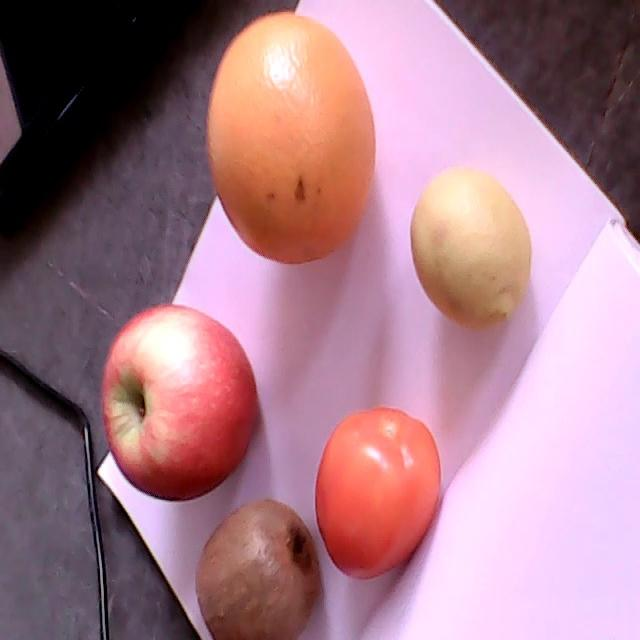apple: (101, 303, 258, 503)
kiwi: (196, 499, 322, 638)
lemon: (411, 164, 533, 330)
orange: (207, 12, 376, 264)
tomato: (316, 405, 443, 581)
